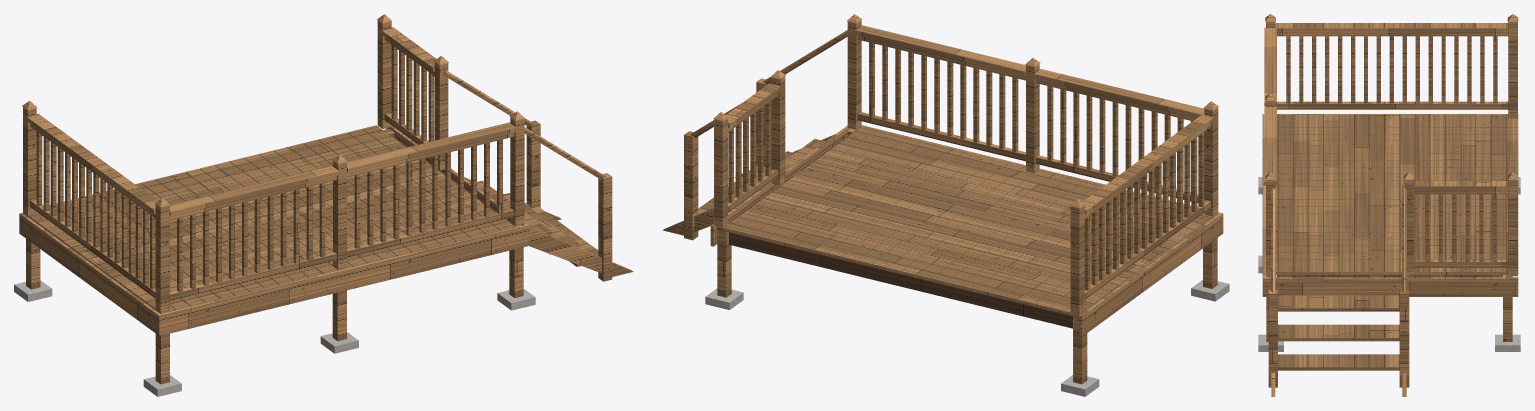
File: deck.glb
3 views of the same model, side by side, from view 1: azimuth 30°, elevation 25°; view 2: azimuth 150°, elevation 25°; view 3: azimuth 270°, elevation 25° (orthographic). The views are drawn at different scales.
Visible parts, largest first — view 1: deck_wood, deck_deck, deck_concrete; view 2: deck_wood, deck_deck, deck_dkwood, deck_concrete; view 3: deck_deck, deck_wood, deck_concrete, deck_dkwood.
Part boxes in pixels (bbox=[...]): deck_wood: bbox=[19, 14, 633, 384]; deck_deck: bbox=[23, 125, 598, 313]; deck_concrete: bbox=[14, 280, 535, 396]; deck_wood: bbox=[662, 14, 1223, 384]; deck_deck: bbox=[698, 126, 1217, 317]; deck_dkwood: bbox=[728, 132, 1072, 328]; deck_concrete: bbox=[705, 280, 1229, 396]; deck_deck: bbox=[1275, 114, 1518, 370]; deck_wood: bbox=[1262, 14, 1518, 396]; deck_concrete: bbox=[1258, 177, 1520, 351]; deck_dkwood: bbox=[1276, 275, 1502, 277].
Bounding box in the file's own units: 4.78 × 1.83 × 2.46.
Materials: 4 (4 with a texture image).
